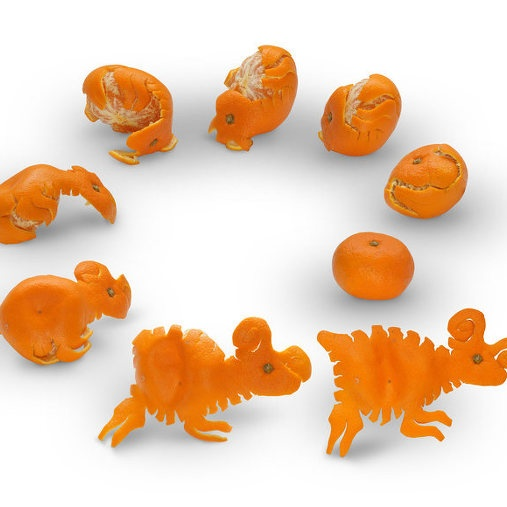mandarin: (1, 272, 88, 364), (333, 231, 413, 305), (387, 141, 466, 212), (86, 70, 166, 132), (337, 79, 399, 152), (234, 46, 296, 115), (1, 165, 60, 223)
